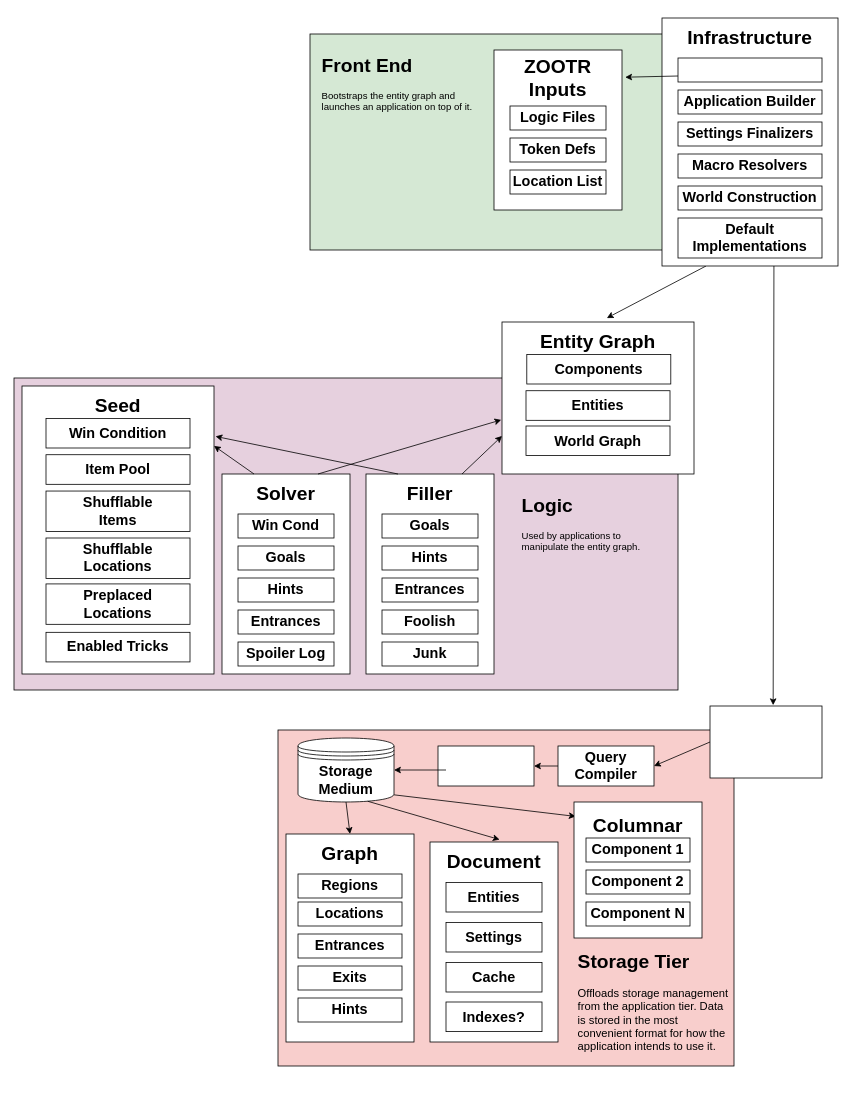
Some shapes in this 852 by 1104 pixel diagram are drawn without their labels. Each missing label, with the centre of its shape:
Logic Rewriter: point (749, 69)
Query Front End: point (765, 741)
Query VM: point (485, 765)
